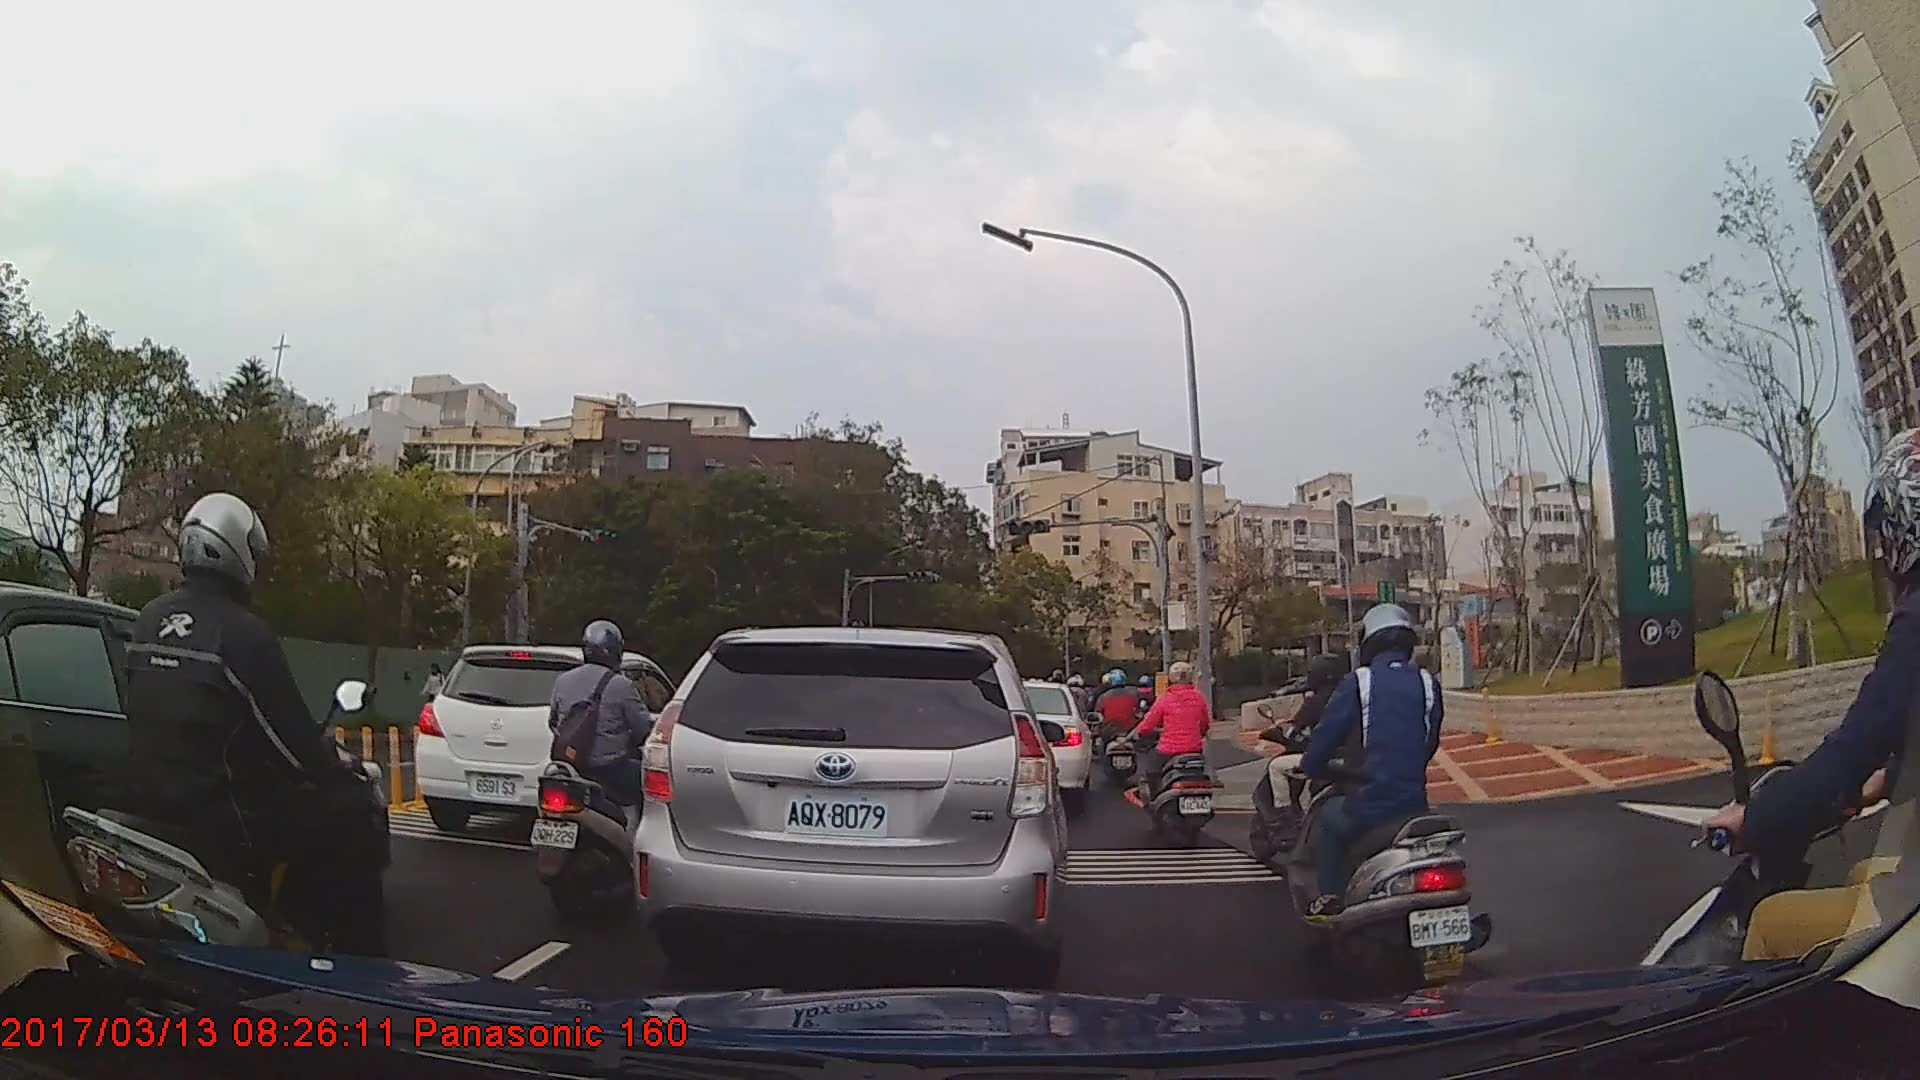pedestrian: (428, 663, 449, 726)
rider: (1635, 427, 1920, 1080), (55, 489, 391, 1035), (1283, 603, 1492, 1013), (530, 622, 672, 920), (1142, 663, 1213, 853), (1091, 667, 1144, 785)
vehicle: (629, 625, 1069, 983), (0, 578, 389, 943), (411, 643, 689, 838), (986, 681, 1092, 804)
